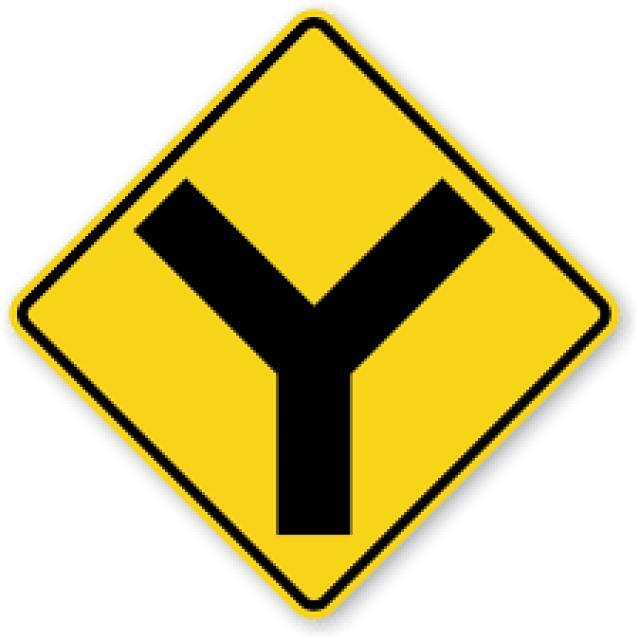y intersection: (24, 17, 613, 617)
